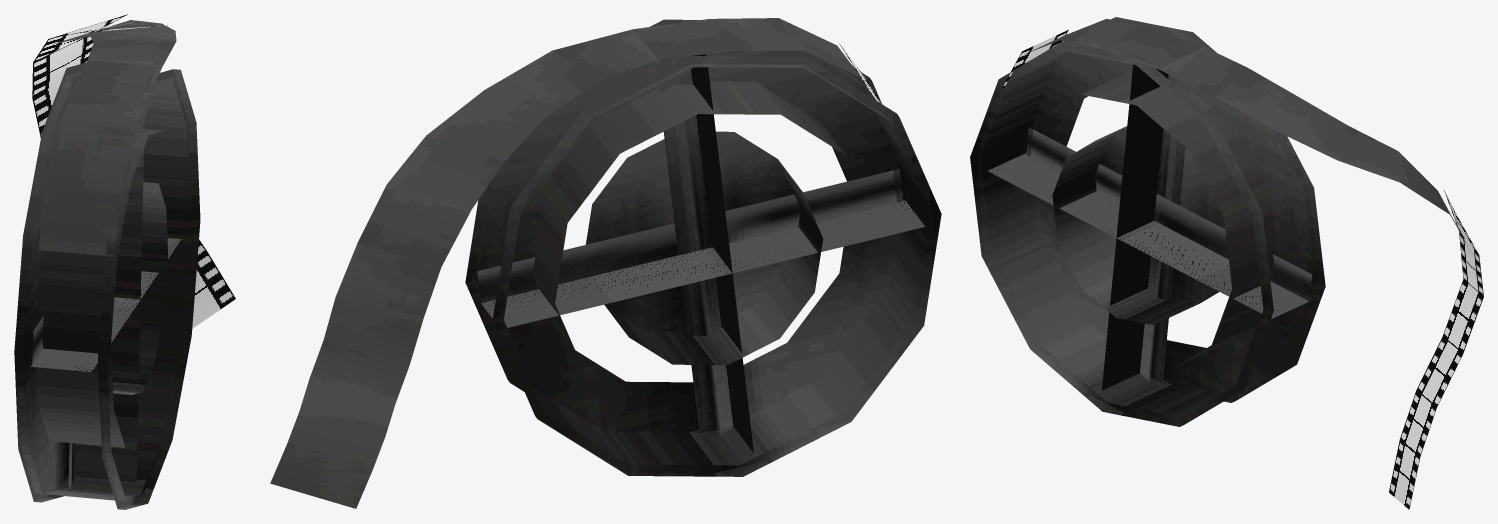
Rendered from ps2_save-icons_winningpost5-replay.glb.
The picture shows the model from 3 angles, left to right: view 1: azimuth 30°, elevation 25°; view 2: azimuth 150°, elevation 25°; view 3: azimuth 270°, elevation 25°; orthographic projection. The views are drawn at different scales.
Parts seen in each view (by area): view 1: ic_vtr.ico; view 2: ic_vtr.ico; view 3: ic_vtr.ico.
Part boxes in pixels (x1,y1,x2,y2): ic_vtr.ico: [14, 14, 235, 509]; ic_vtr.ico: [270, 18, 941, 508]; ic_vtr.ico: [970, 17, 1483, 509].
Bounding box in the file's own units: 4.26 × 3.83 × 4.85.
1 material, 1 textured.
